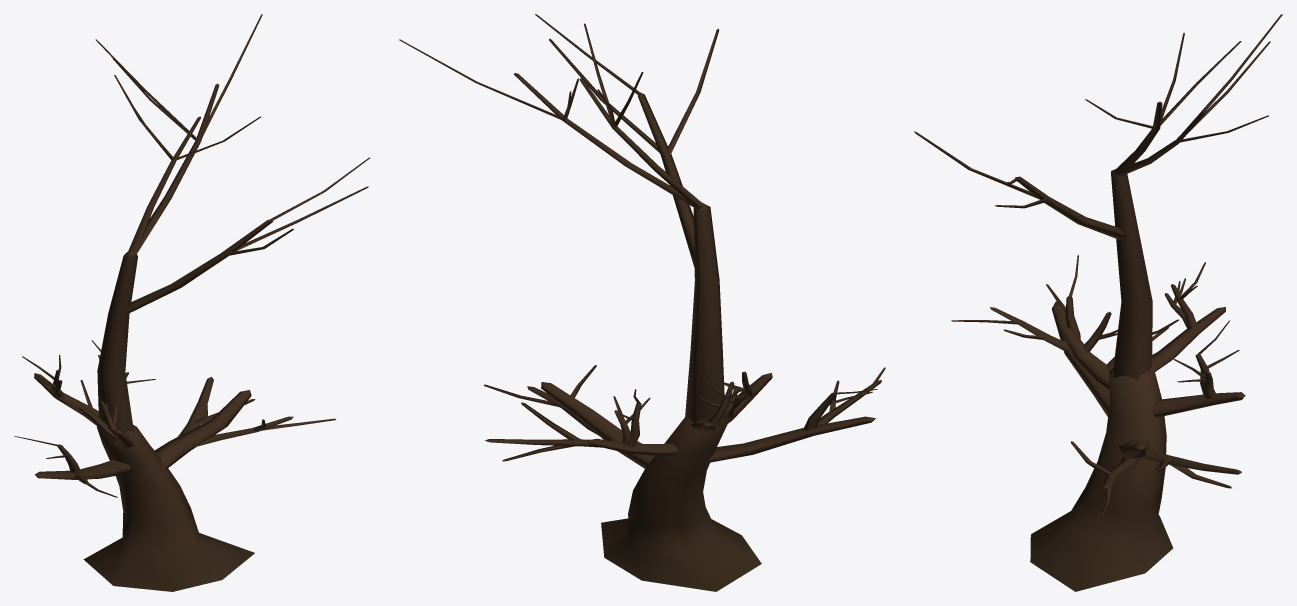
Rendered from tree-bare-oak-b.glb.
3 renders of one model, left to right at view 1: azimuth 30°, elevation 25°; view 2: azimuth 150°, elevation 25°; view 3: azimuth 270°, elevation 25°, orthographic. The views are drawn at different scales.
Parts seen in each view (by area): view 1: tree-bare-oak-b; view 2: tree-bare-oak-b; view 3: tree-bare-oak-b.
Boxes of the visible parts, x1,y1,x2,y2 form: tree-bare-oak-b: (14, 14, 370, 591); tree-bare-oak-b: (399, 14, 885, 591); tree-bare-oak-b: (914, 14, 1282, 591).
Size of the model in its own units: 1.26 by 1.7 by 1.05.
